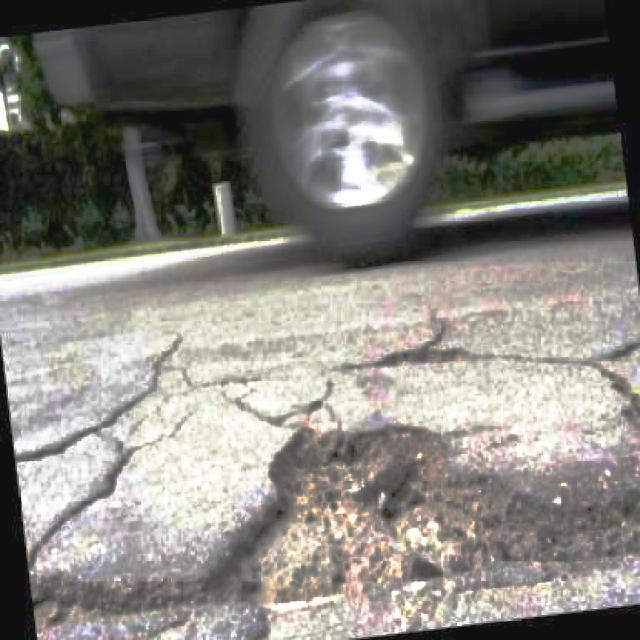pothole: (217, 422, 637, 604), (32, 566, 218, 637)
